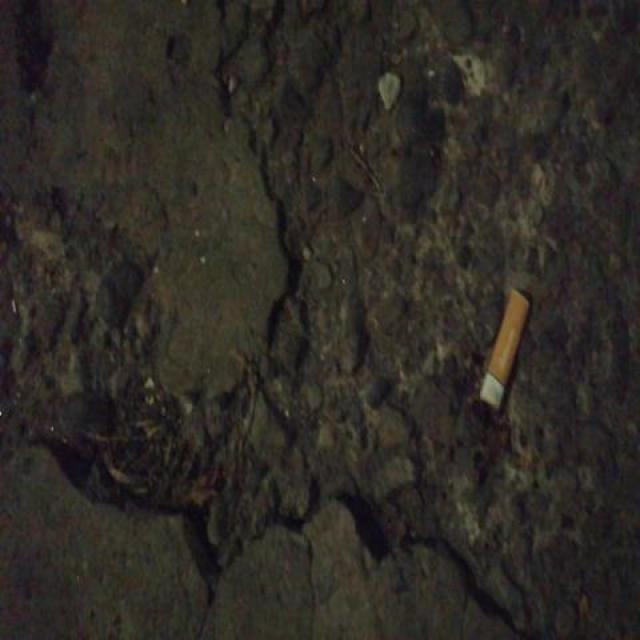non-organic waste: (474, 282, 531, 417)
